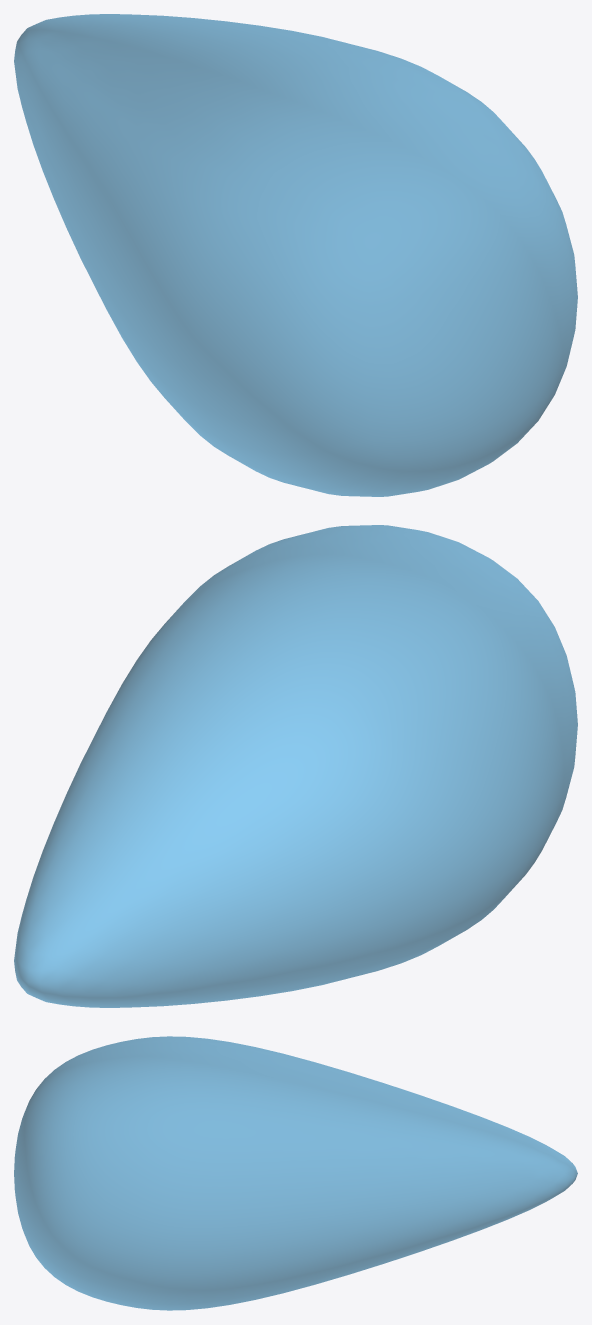
File: Ice_bullet.fbx
3 views of the same model, one above another, from view 1: azimuth 30°, elevation 25°; view 2: azimuth 150°, elevation 25°; view 3: azimuth 270°, elevation 25° (orthographic). The views are drawn at different scales.
Parts seen in each view (by area): view 1: pCube2; view 2: pCube2; view 3: pCube2.
Boxes of the visible parts, bbox=[...] form: pCube2: bbox=[14, 14, 577, 496]; pCube2: bbox=[14, 525, 577, 1007]; pCube2: bbox=[14, 1036, 577, 1310].
Bounding box in the file's own units: 1.8 × 1.8 × 3.76.
